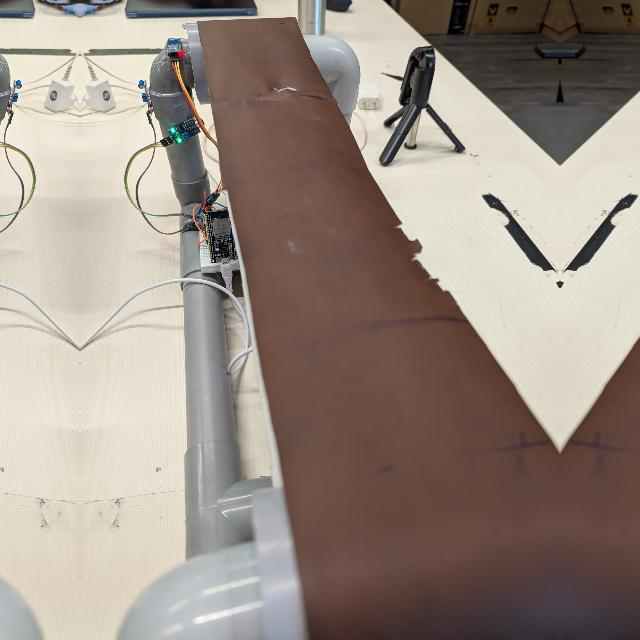edge_damage: (383, 219, 467, 313)
joint_damage: (253, 76, 327, 110)
